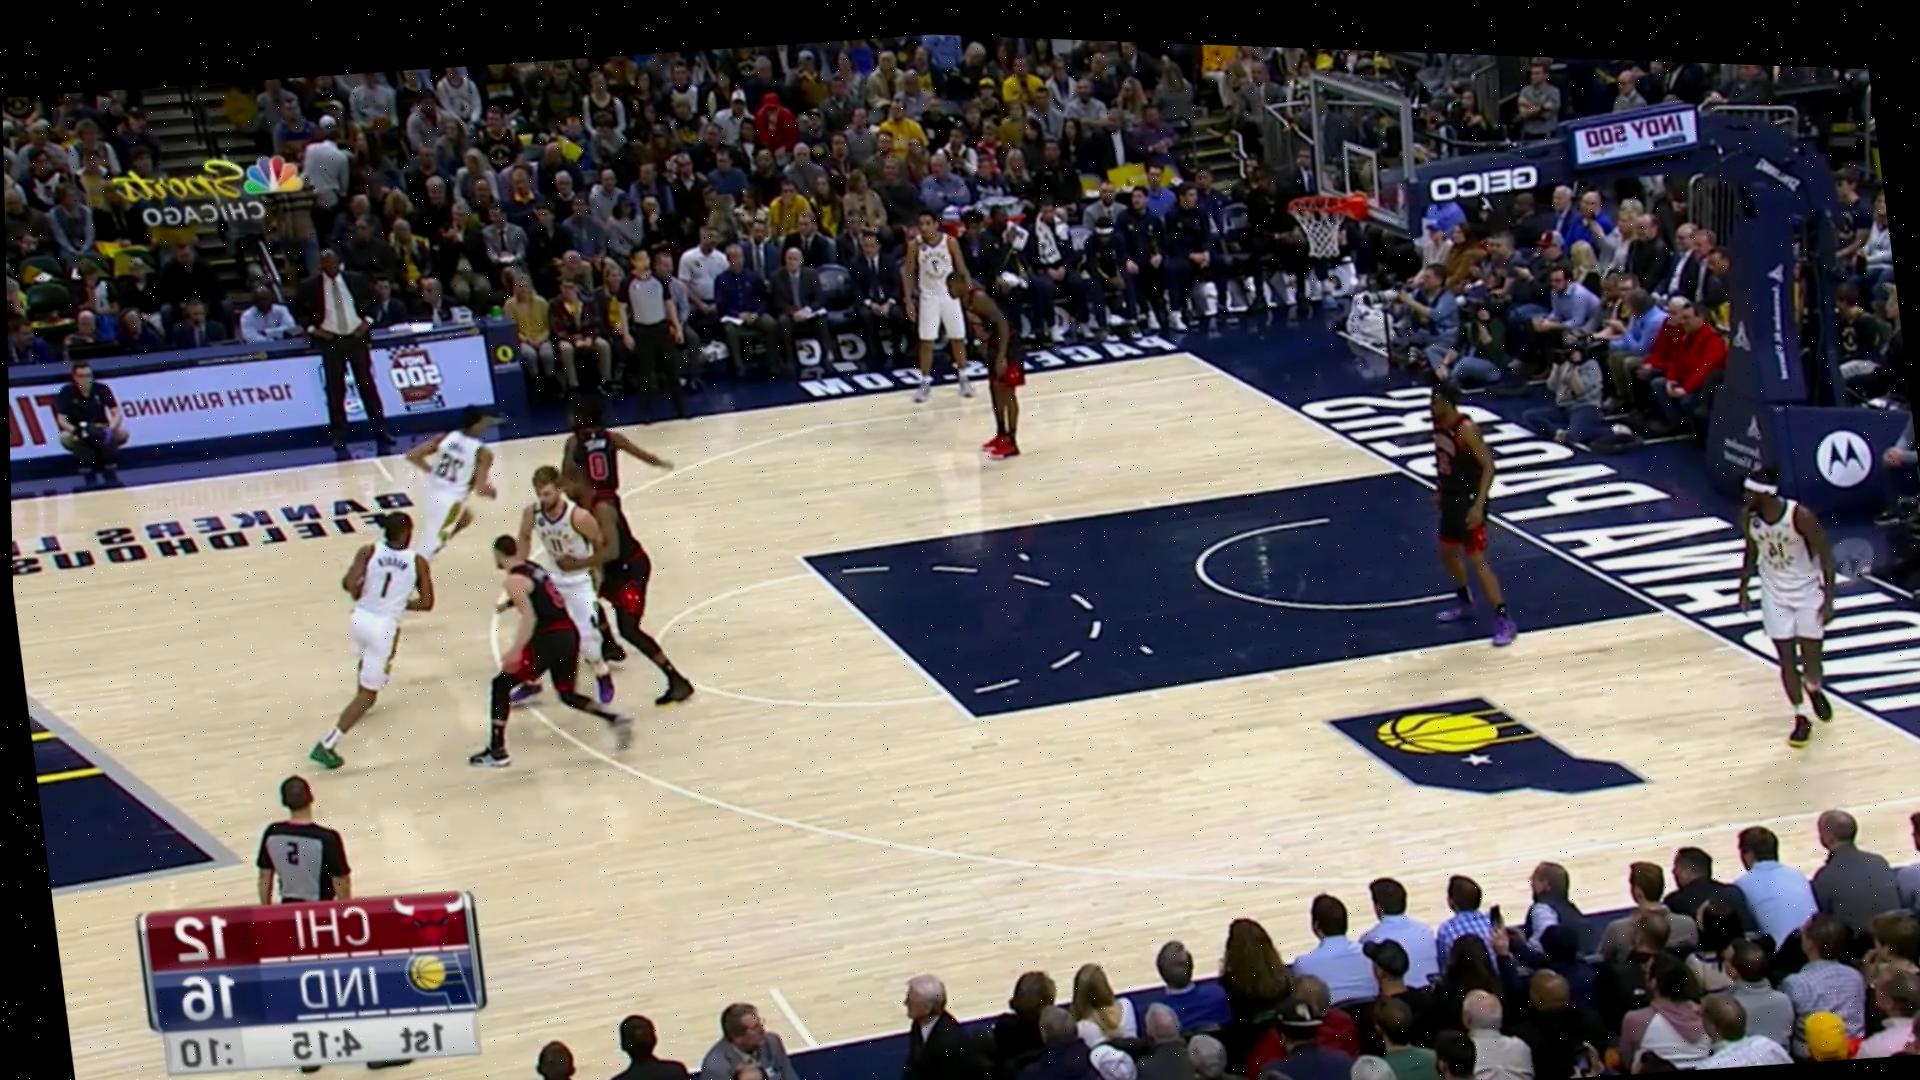no_foul: (522, 444, 661, 709)
